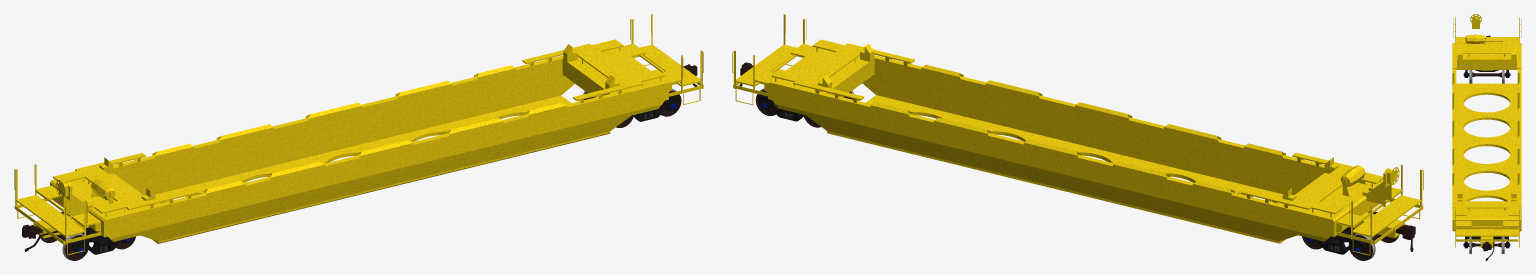
The model's file is ttx_huskykline_1.obj.
The picture shows the model from 3 angles, left to right: view 1: azimuth 30°, elevation 25°; view 2: azimuth 150°, elevation 25°; view 3: azimuth 270°, elevation 25°; orthographic projection. The views are drawn at different scales.
Visible parts, largest first — view 1: SHELL_MAIN, FRAME_MAIN.002, BOGEY_FRONT_Bogie2.002, BOGEY_FRONT_WHEEL_1_Cylinder.002, BOGEY_REAR_Bogie2.001; view 2: SHELL_MAIN, FRAME_MAIN.002, BOGEY_FRONT_Bogie2.002, BOGEY_FRONT_WHEEL_1_Cylinder.002, BOGEY_REAR_Bogie2.001; view 3: SHELL_MAIN, FRAME_MAIN.002, BOGEY_FRONT_WHEEL_2_Cylinder.003, BOGEY_REAR_WHEEL_1_Cylinder.005, BOGEY_REAR_Bogie2.001, MAIN.002_MAIN.001, BOGEY_FRONT_Bogie2.002, FRONT_COUPLER_Cube.001, Circle_Circle.002.
Part boxes in pixels (bbox=[...]): SHELL_MAIN: bbox=[14, 14, 703, 255]; FRAME_MAIN.002: bbox=[152, 95, 571, 243]; BOGEY_FRONT_Bogie2.002: bbox=[41, 212, 132, 254]; BOGEY_FRONT_WHEEL_1_Cylinder.002: bbox=[39, 233, 89, 260]; BOGEY_REAR_Bogie2.001: bbox=[623, 95, 679, 121]; SHELL_MAIN: bbox=[732, 14, 1423, 255]; FRAME_MAIN.002: bbox=[866, 95, 1285, 242]; BOGEY_FRONT_Bogie2.002: bbox=[1305, 211, 1397, 254]; BOGEY_FRONT_WHEEL_1_Cylinder.002: bbox=[1348, 233, 1399, 260]; BOGEY_REAR_Bogie2.001: bbox=[757, 95, 813, 121]; SHELL_MAIN: bbox=[1452, 17, 1521, 247]; FRAME_MAIN.002: bbox=[1456, 83, 1517, 201]; BOGEY_FRONT_WHEEL_2_Cylinder.003: bbox=[1463, 70, 1510, 83]; BOGEY_REAR_WHEEL_1_Cylinder.005: bbox=[1463, 236, 1510, 254]; BOGEY_REAR_Bogie2.001: bbox=[1464, 236, 1509, 248]; MAIN.002_MAIN.001: bbox=[1480, 70, 1493, 247]; BOGEY_FRONT_Bogie2.002: bbox=[1464, 70, 1509, 77]; FRONT_COUPLER_Cube.001: bbox=[1482, 241, 1491, 251]; Circle_Circle.002: bbox=[1470, 14, 1481, 22].
Bounding box in the file's own units: 22.9 × 2.59 × 3.19.
Materials: 7 (7 with a texture image).
